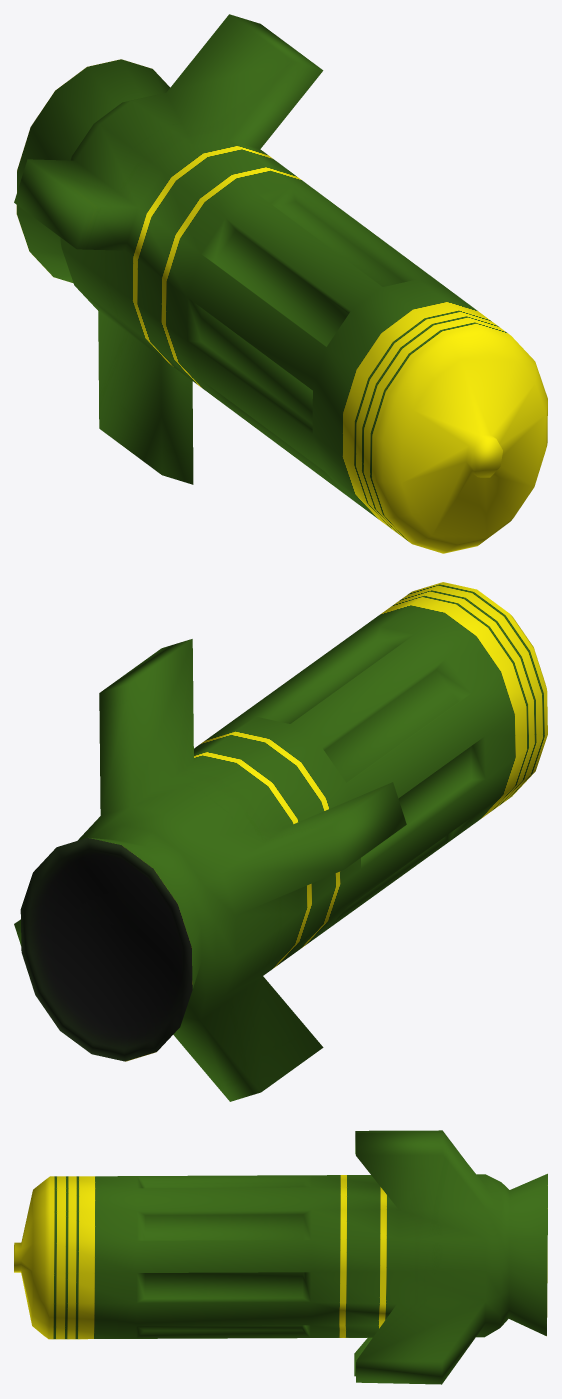
Rendered from projectile-missile2.fbx.
3 views of the same model, one above another, from view 1: azimuth 30°, elevation 25°; view 2: azimuth 150°, elevation 25°; view 3: azimuth 270°, elevation 25° (orthographic). The views are drawn at different scales.
Parts seen in each view (by area): view 1: projectile-missile2; view 2: projectile-missile2; view 3: projectile-missile2.
Part boxes in pixels (x1,y1,x2,y2): projectile-missile2: (14, 14, 547, 553); projectile-missile2: (14, 582, 547, 1101); projectile-missile2: (14, 1130, 547, 1384).
Size of the model in its own units: 65 by 130 by 74.31.
